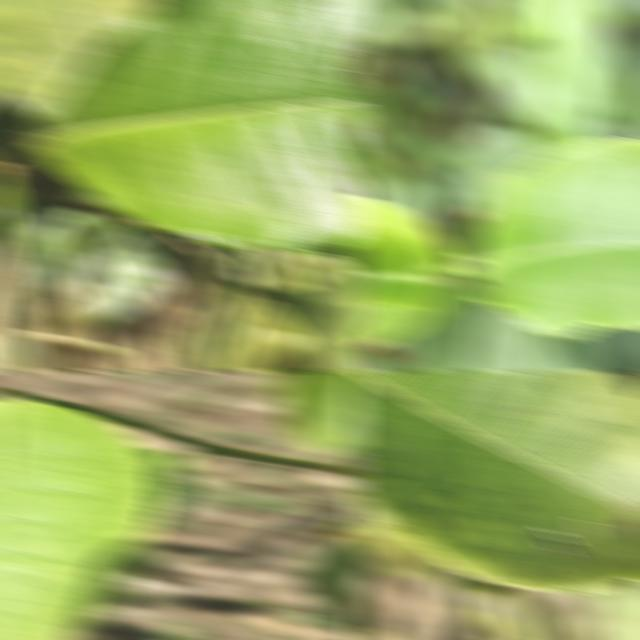Leaf: (29, 0, 365, 254), (351, 370, 640, 591), (0, 396, 164, 640), (464, 137, 640, 339), (0, 0, 160, 125), (2, 188, 131, 303), (524, 0, 614, 156), (184, 272, 321, 372), (78, 225, 198, 329), (264, 268, 365, 372), (442, 122, 547, 212), (384, 283, 488, 372), (351, 215, 446, 310), (301, 517, 365, 640), (276, 370, 365, 457), (213, 241, 354, 292), (351, 500, 440, 578), (436, 0, 493, 90), (474, 588, 557, 640), (140, 451, 196, 526), (497, 0, 568, 42), (589, 583, 640, 640), (351, 0, 393, 50)
